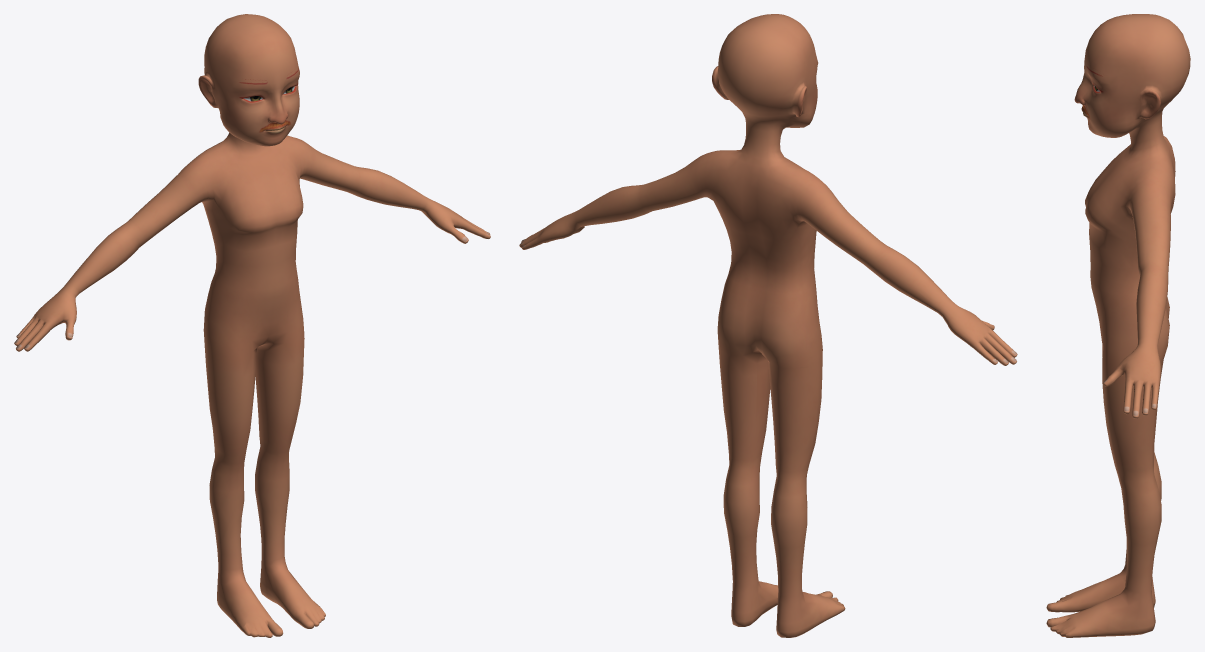
Rendered from frame_0009.glb.
3 renders of one model, left to right at view 1: azimuth 30°, elevation 25°; view 2: azimuth 150°, elevation 25°; view 3: azimuth 270°, elevation 25°, orthographic. The views are drawn at different scales.
Visible parts, largest first — view 1: frame_0009_head_geo; view 2: frame_0009_head_geo; view 3: frame_0009_head_geo.
Part boxes in pixels (bbox=[...]): frame_0009_head_geo: bbox=[14, 14, 490, 637]; frame_0009_head_geo: bbox=[519, 14, 1017, 637]; frame_0009_head_geo: bbox=[1046, 14, 1190, 637].
Bounding box in the file's own units: 1.28 × 1.5 × 0.3253.
Materials: 3 (3 with a texture image).
